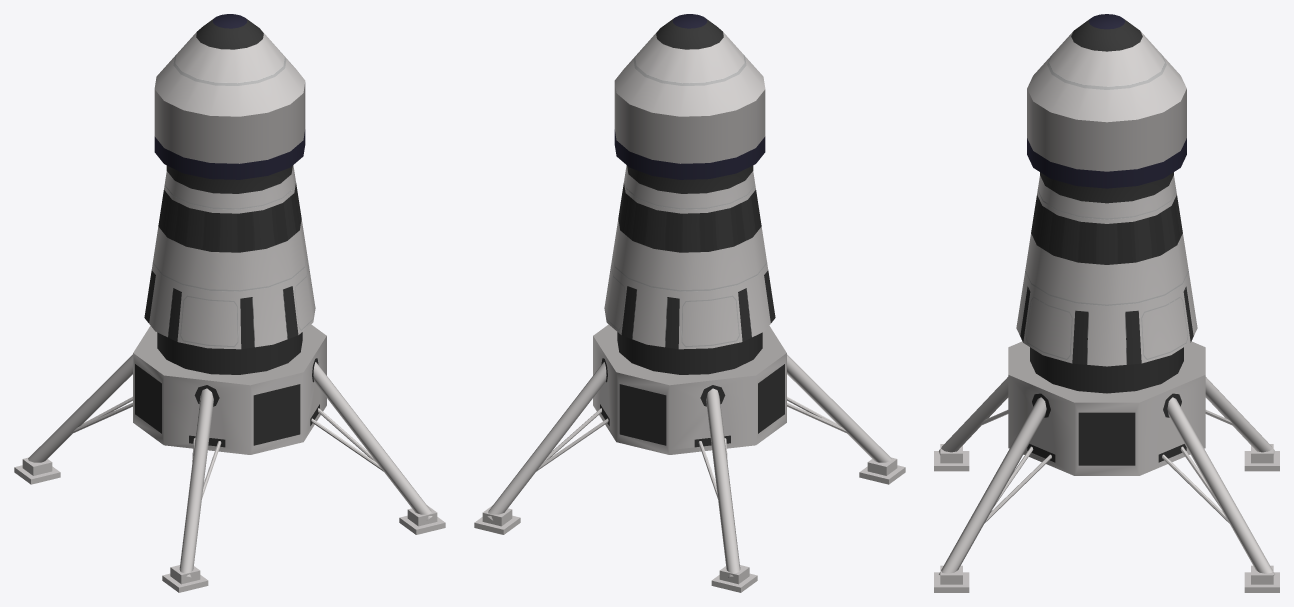
The model's file is module1.fbx.
3 views of the same model, side by side, from view 1: azimuth 30°, elevation 25°; view 2: azimuth 150°, elevation 25°; view 3: azimuth 270°, elevation 25° (orthographic). The views are drawn at different scales.
Visible parts, largest first — view 1: module1; view 2: module1; view 3: module1.
Part boxes in pixels (left/top/right/bottom): module1: left=14, top=14, right=445, bottom=592; module1: left=474, top=14, right=905, bottom=592; module1: left=934, top=14, right=1279, bottom=592.
Bounding box in the file's own units: 5.24 × 9 × 5.61.
